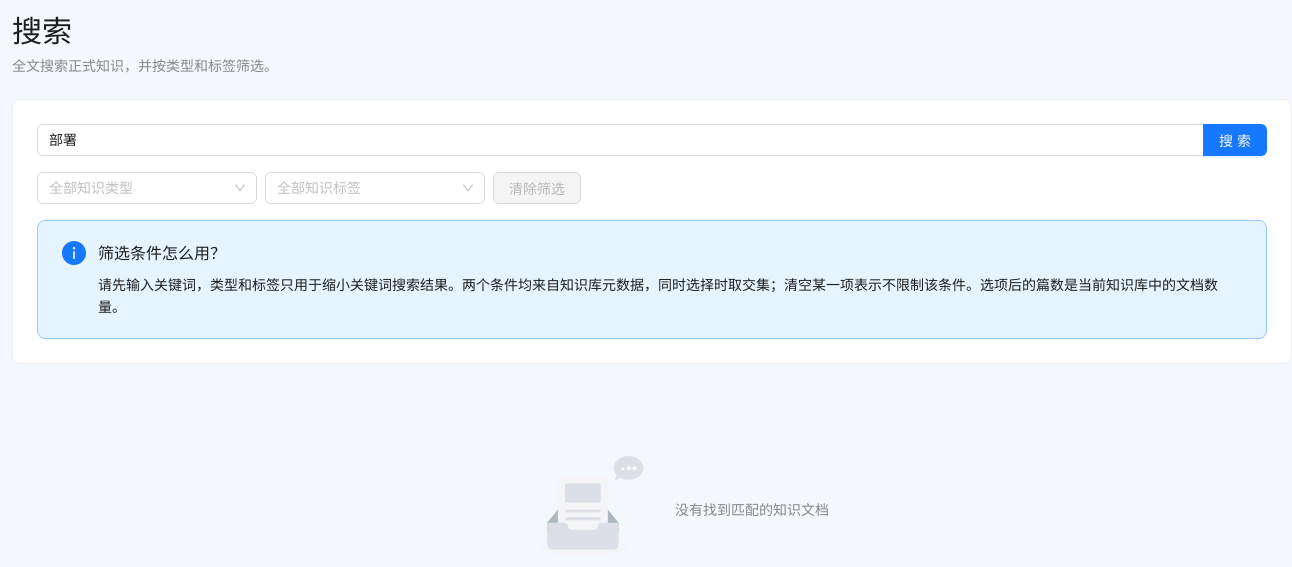
SearchPage › passes selected filters to the search hook and can clear them
Click the dropdown named "按知识类型筛选": [138, 188] box top-left (49, 173), bottom-right (227, 203)
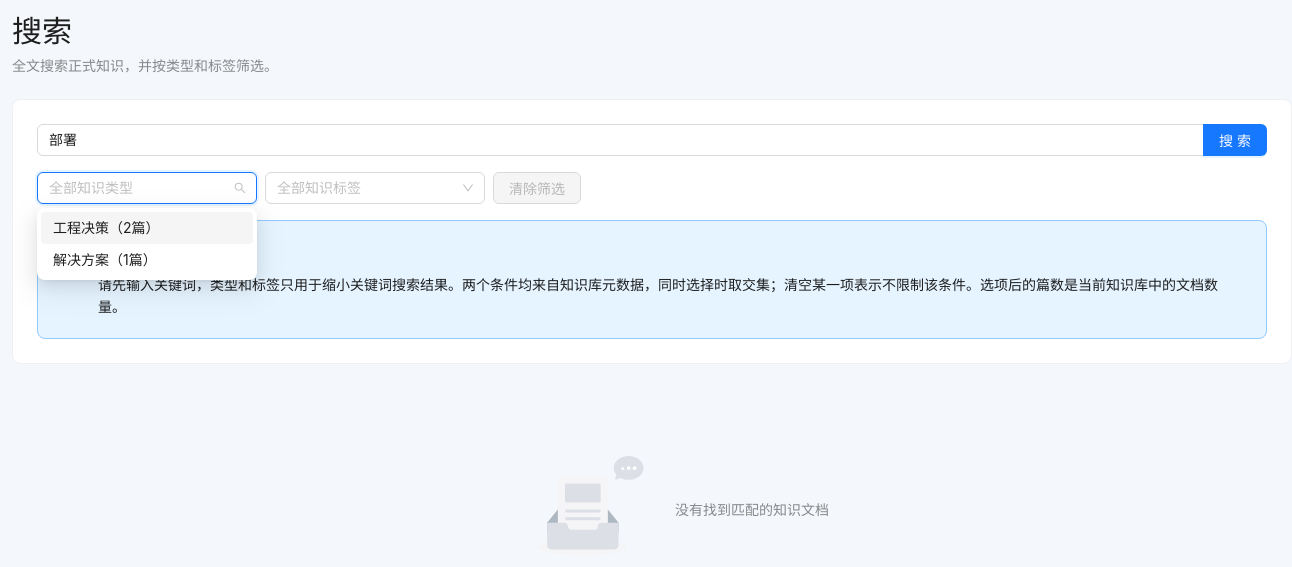
Click the text "工程决策（2篇）": [106, 228] box top-left (53, 219), bottom-right (160, 236)
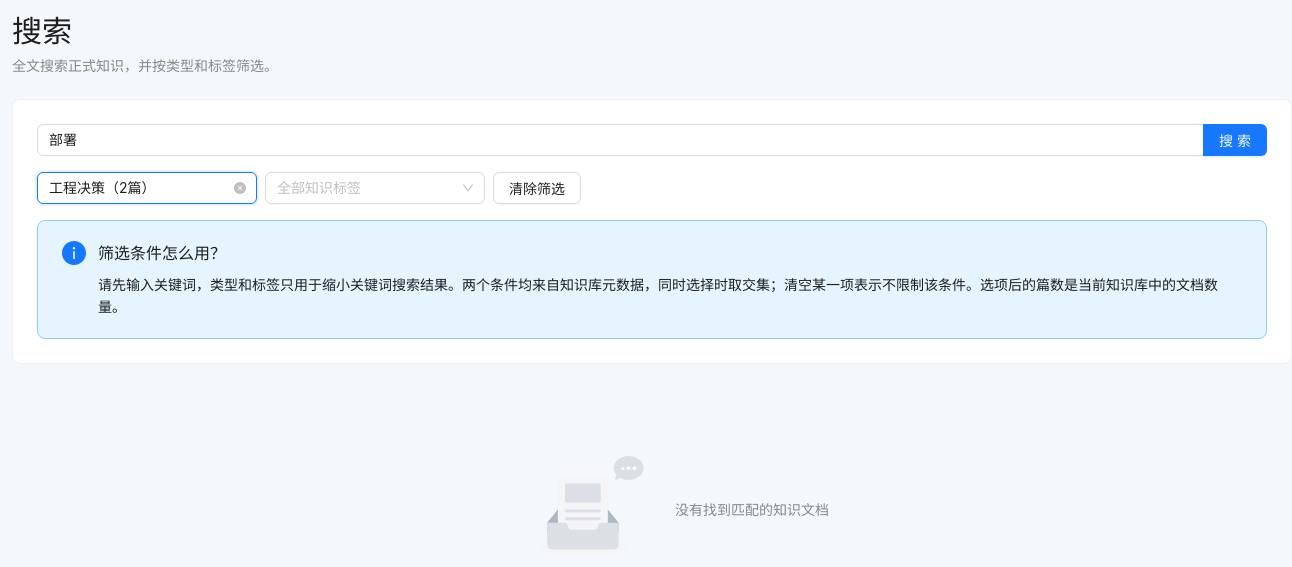
Click the dropdown named "按知识标签筛选": [366, 188] box top-left (277, 173), bottom-right (455, 203)
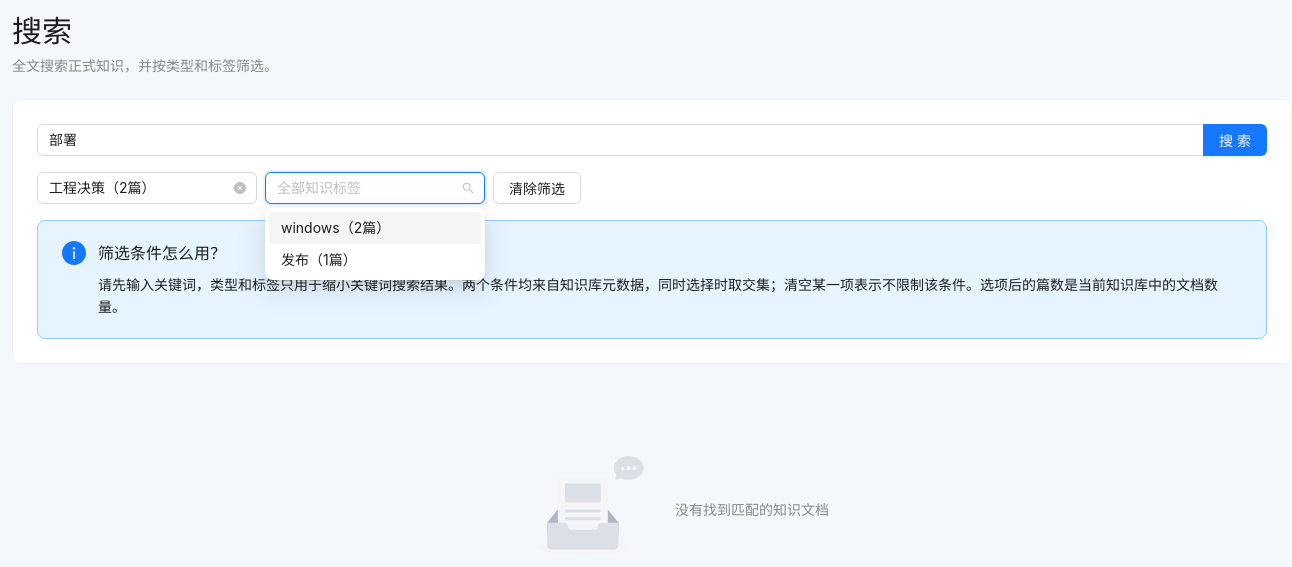
Click the text "windows（2篇）": [336, 228] box top-left (281, 219), bottom-right (390, 236)
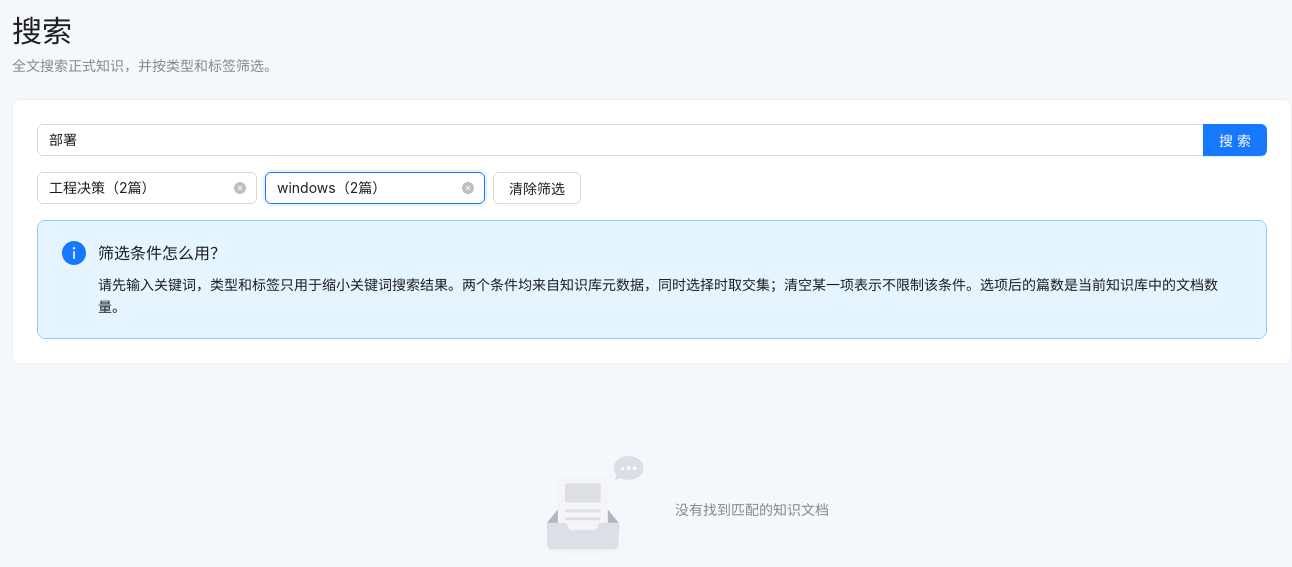
Click the button "清除筛选": [537, 188] box top-left (493, 172), bottom-right (581, 204)
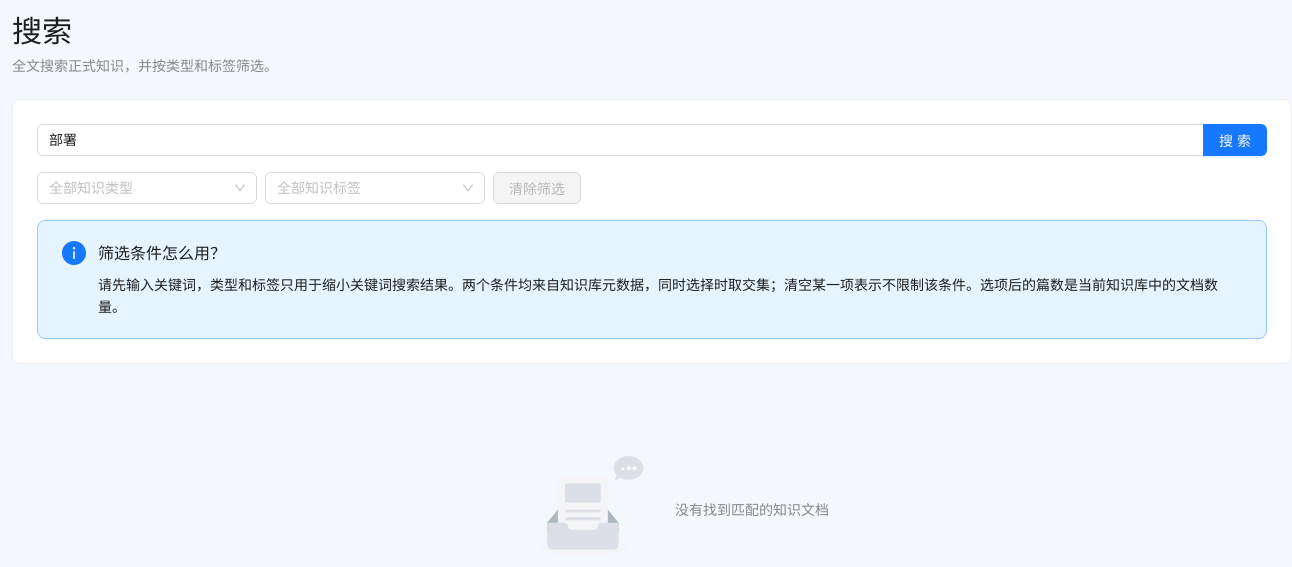
Result: the button "清除筛选" is disabled at top-left (493, 172), bottom-right (581, 204)
